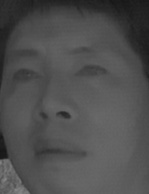eye: (73, 61, 109, 82), (11, 64, 41, 85)
mouth: (30, 136, 90, 168)
